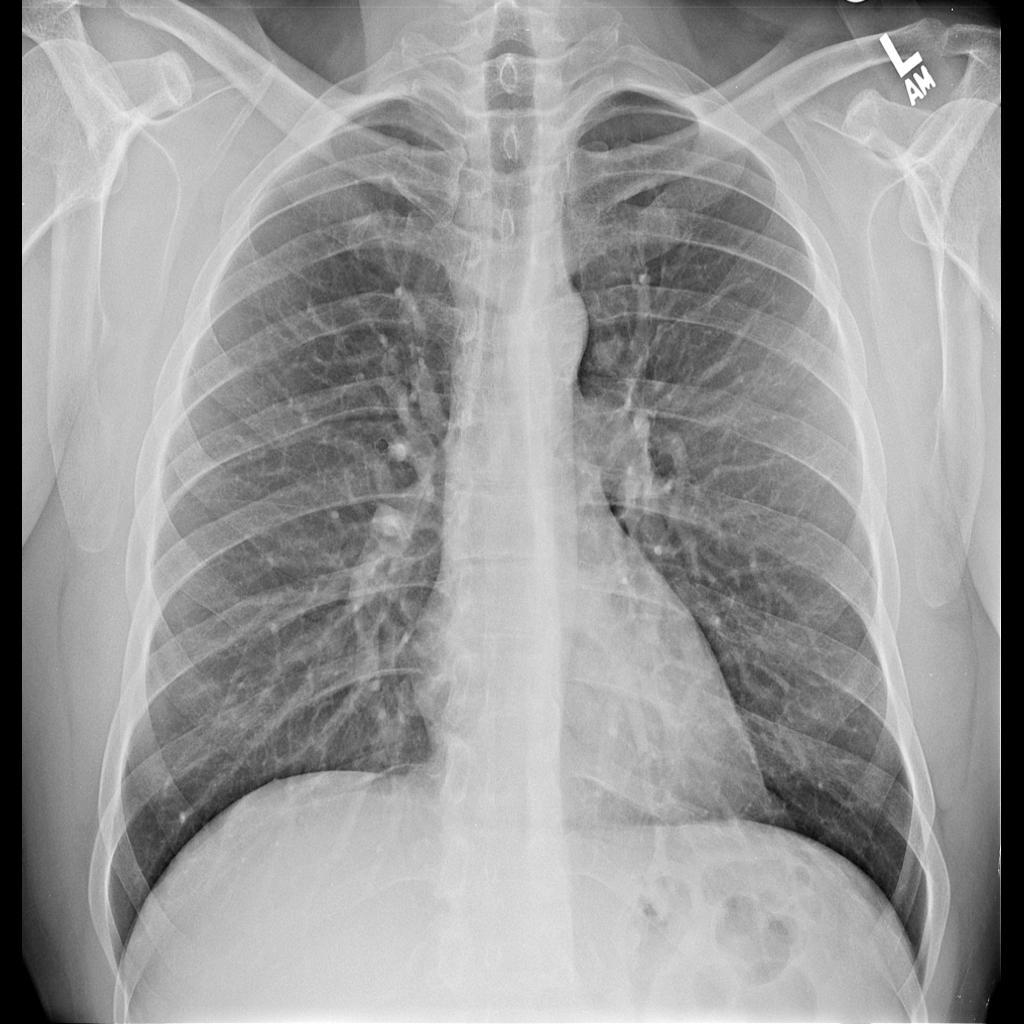Nodule: (594, 334, 624, 377)
